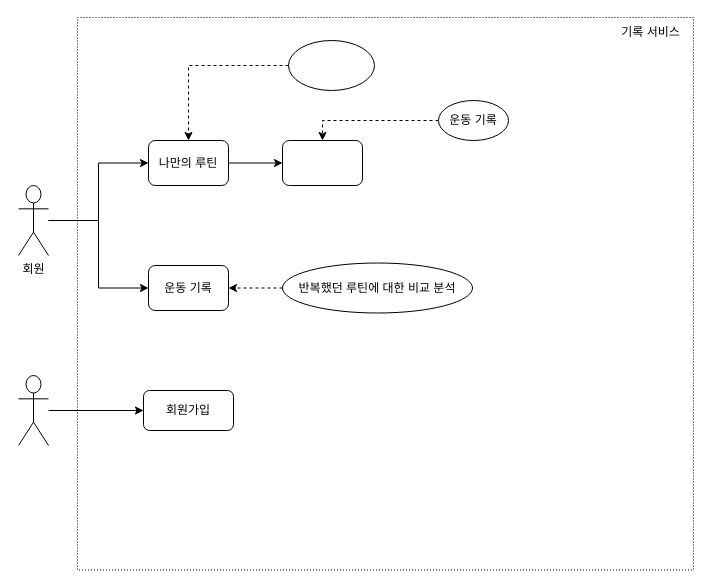
This 711x588 diagram has some shape labels left out. The box of each missing label's shape, as (x1, y1, x2, y2) in pixels:
비회원: (18, 374, 48, 446)
운동 검색 기능: (288, 40, 374, 90)
운동 시작 및 종료: (282, 140, 362, 186)
